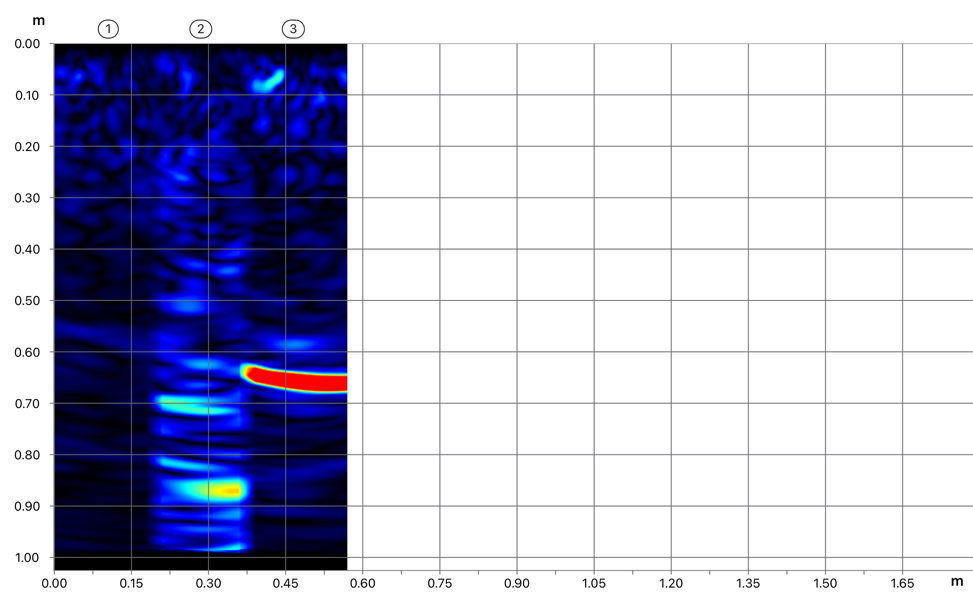crop: (3, 1, 348, 331)
